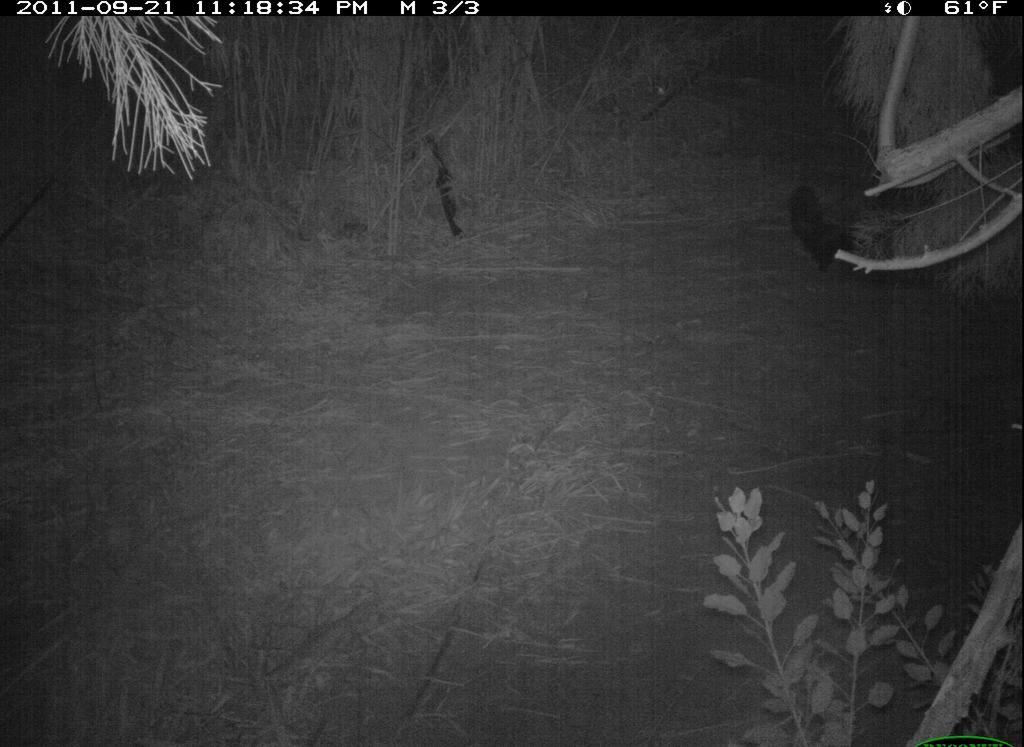skunk: (767, 171, 916, 309)
